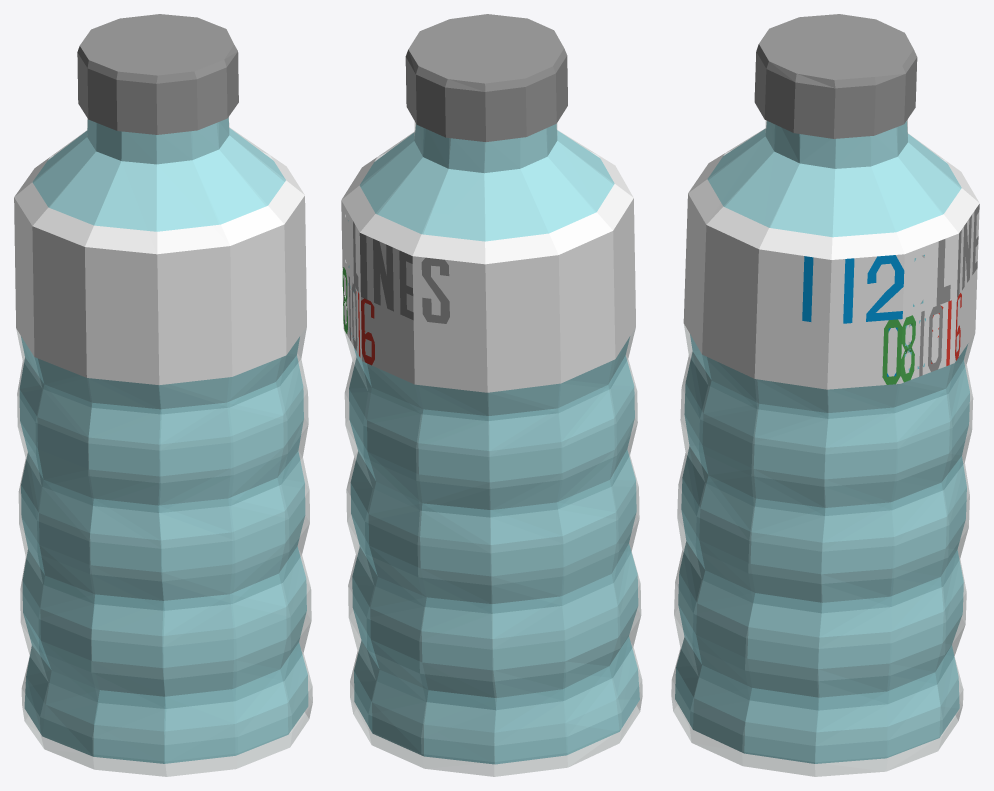
File: TIME HOTEL 2.9.glb
3 renders of one model, left to right at view 1: azimuth 30°, elevation 25°; view 2: azimuth 150°, elevation 25°; view 3: azimuth 270°, elevation 25°, orthographic.
Visible parts, largest first — view 1: group1187010915; view 2: group1187010915; view 3: group1187010915.
Part boxes in pixels (x1,y1,x2,y2): group1187010915: [14, 14, 312, 776]; group1187010915: [341, 14, 642, 776]; group1187010915: [671, 14, 979, 776].
Bounding box in the file's own units: 0.2466 × 0.6289 × 0.2601.
